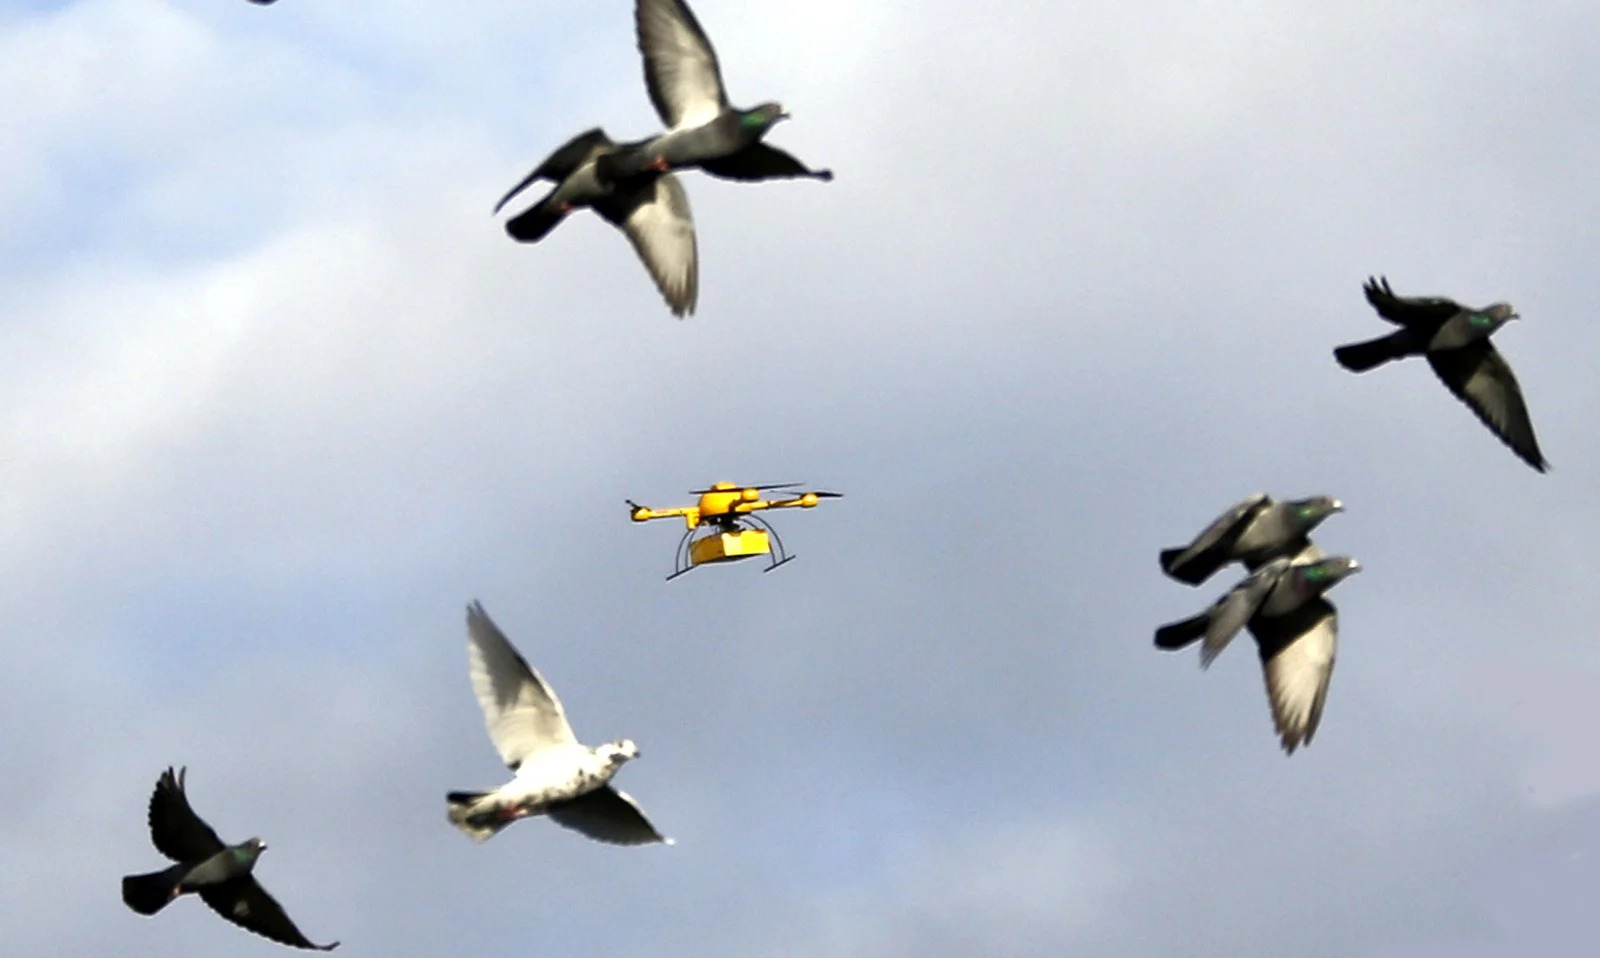Bird: (433, 587, 684, 866), (1324, 261, 1553, 488), (106, 753, 348, 951), (482, 119, 701, 332), (1144, 554, 1361, 763), (622, 3, 840, 203), (1152, 487, 1347, 588)
Drone: (606, 472, 850, 595)
